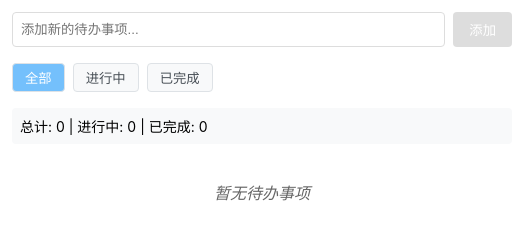
TodoList组件 › 添加待办事项 › 应该在按下回车键时添加待办事项
Type "通过回车添加" into the field with test id "new-todo-input" at (229, 30), box x1=12 y1=12 x2=445 y2=47
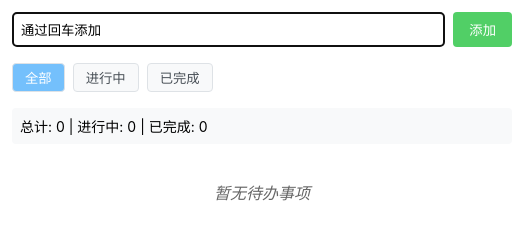
Press Enter
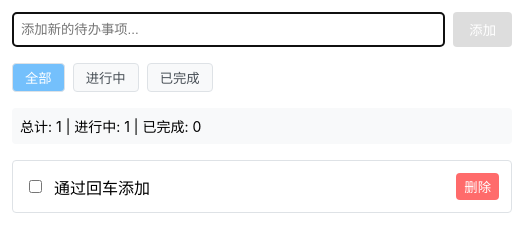
Expected: the text "通过回车添加" is shown, x1=54 y1=178 x2=150 y2=198
Expected: the field with test id "new-todo-input" is empty, x1=12 y1=12 x2=445 y2=47
